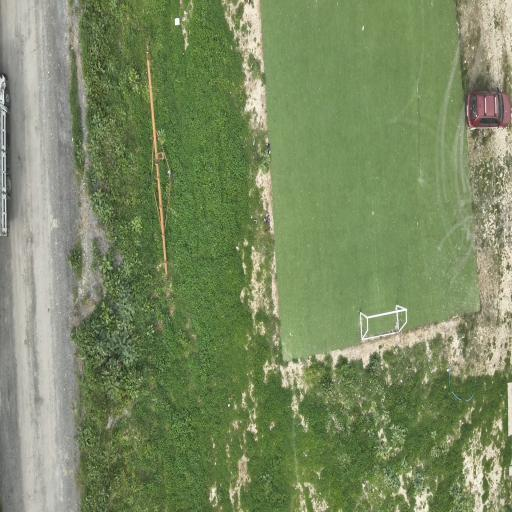car: (467, 92, 510, 128)
truck: (0, 74, 10, 236)
